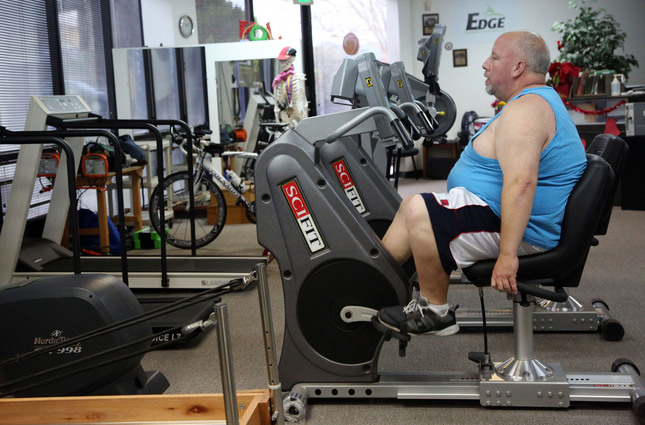gym_bike: (243, 127, 620, 394)
